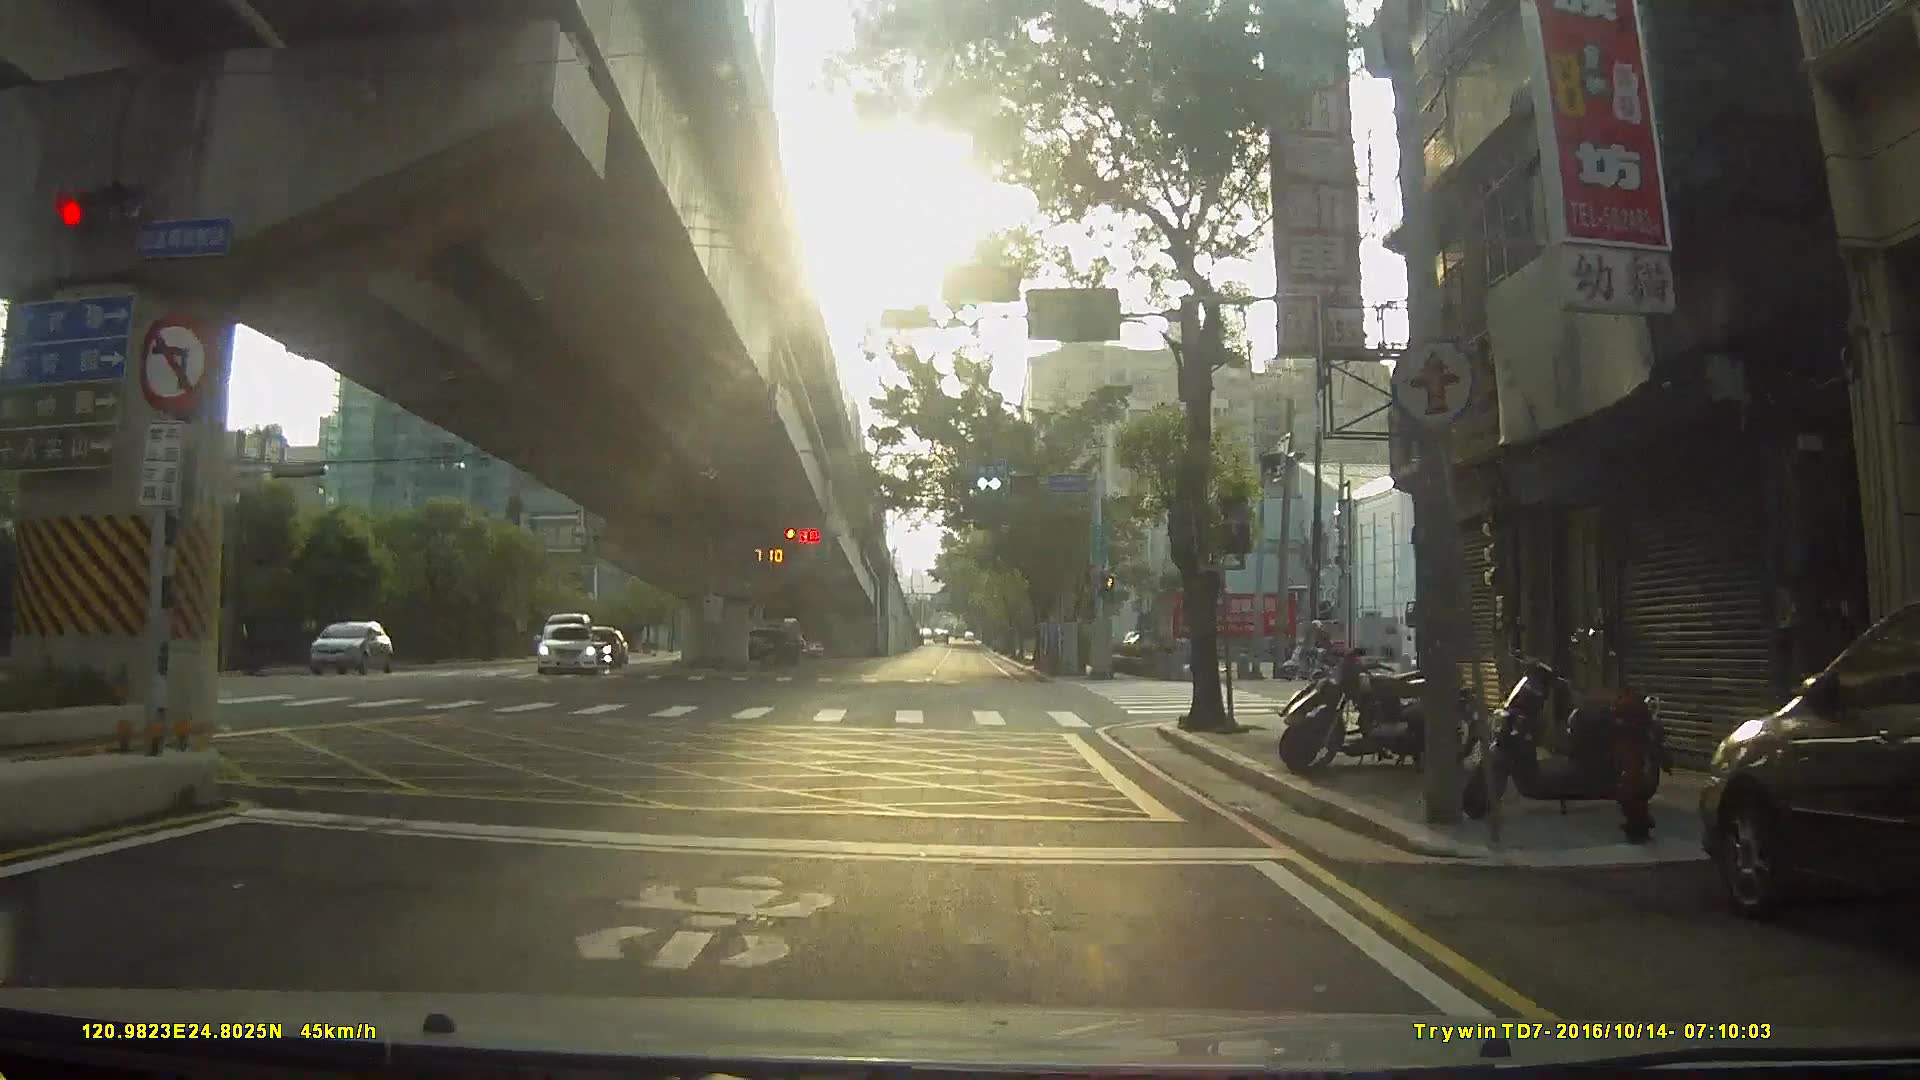vehicle: (1698, 603, 1920, 957), (298, 618, 385, 676), (530, 618, 597, 673), (727, 624, 803, 666)
